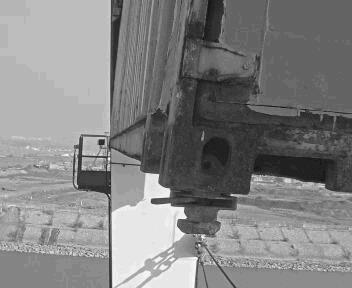twist_lock_1: (160, 187, 243, 240)
